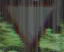Give way: (8, 5, 55, 41)
